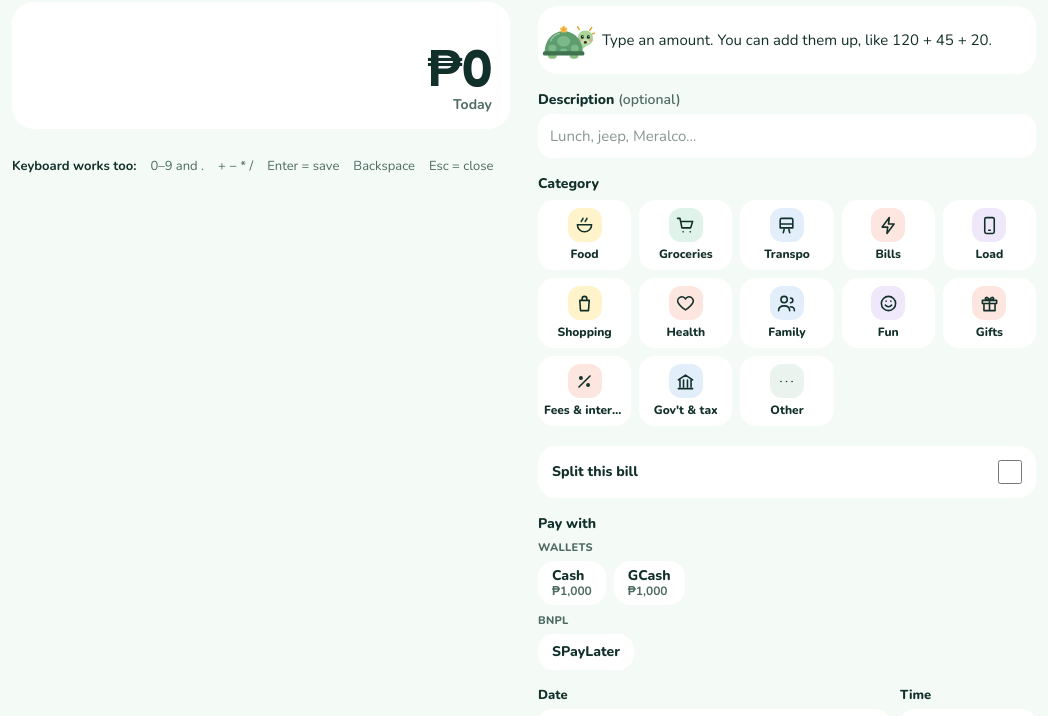
Test case: TransactionForm › shows the server's error and stays open
Type keys "99"
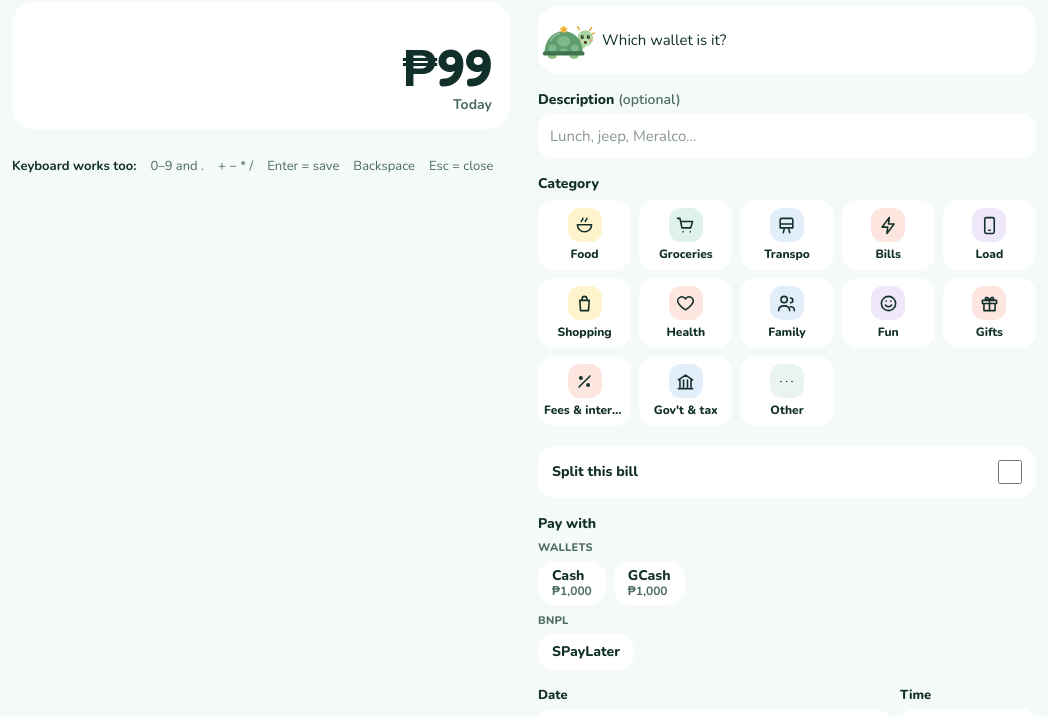
Type "Lunch" into the field labelled "Description (optional)" at (787, 136), box x1=538 y1=114 x2=1036 y2=158
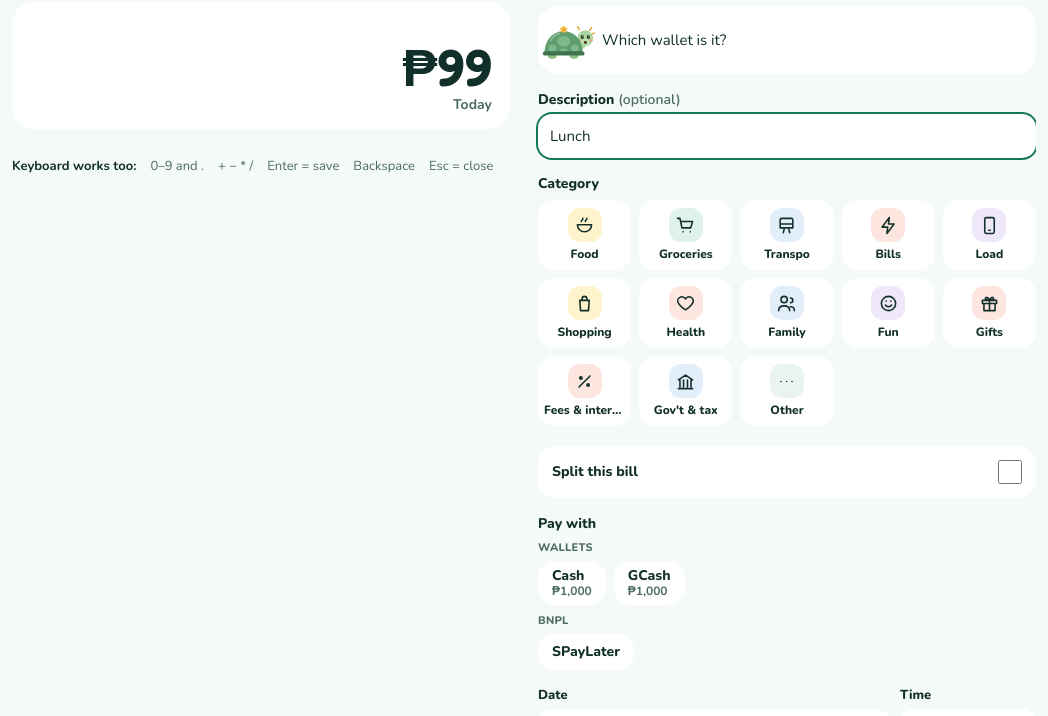
Click the button "Food" at (585, 235), box x1=538 y1=200 x2=631 y2=270
(page scrolled)
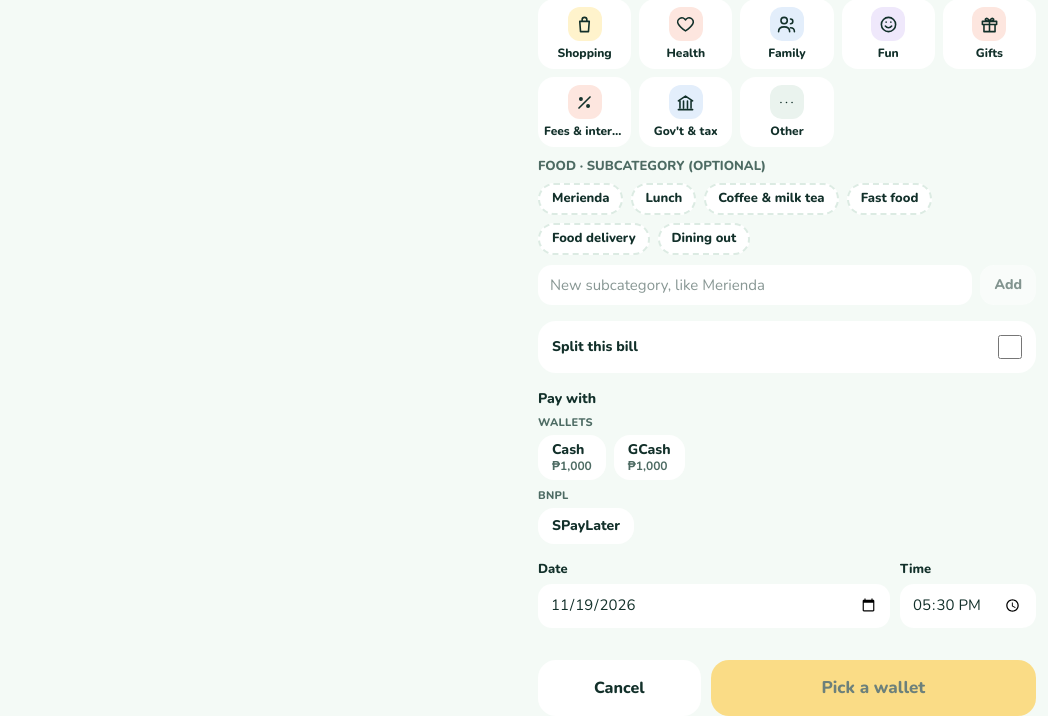
Click the button "Cash ₱1,000" at (572, 457), box x1=538 y1=435 x2=606 y2=480
(page scrolled)
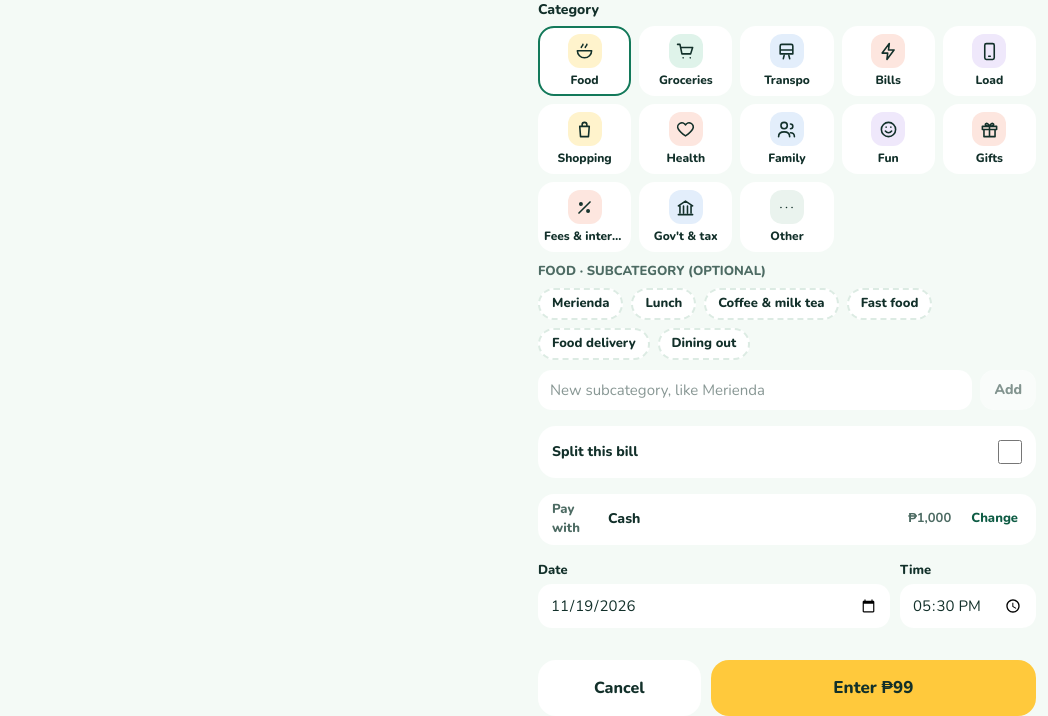
Click the button "Enter ₱99" at (873, 688), box x1=711 y1=660 x2=1036 y2=715
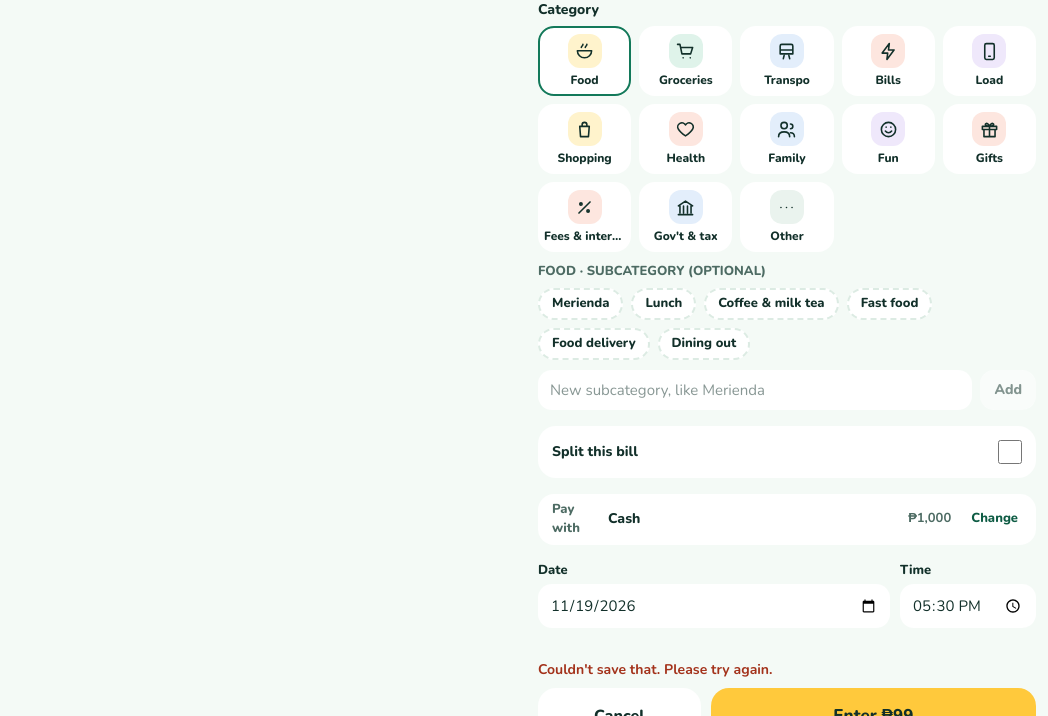
Result: the message shows "Couldn't save that." at x1=538 y1=660 x2=772 y2=679
